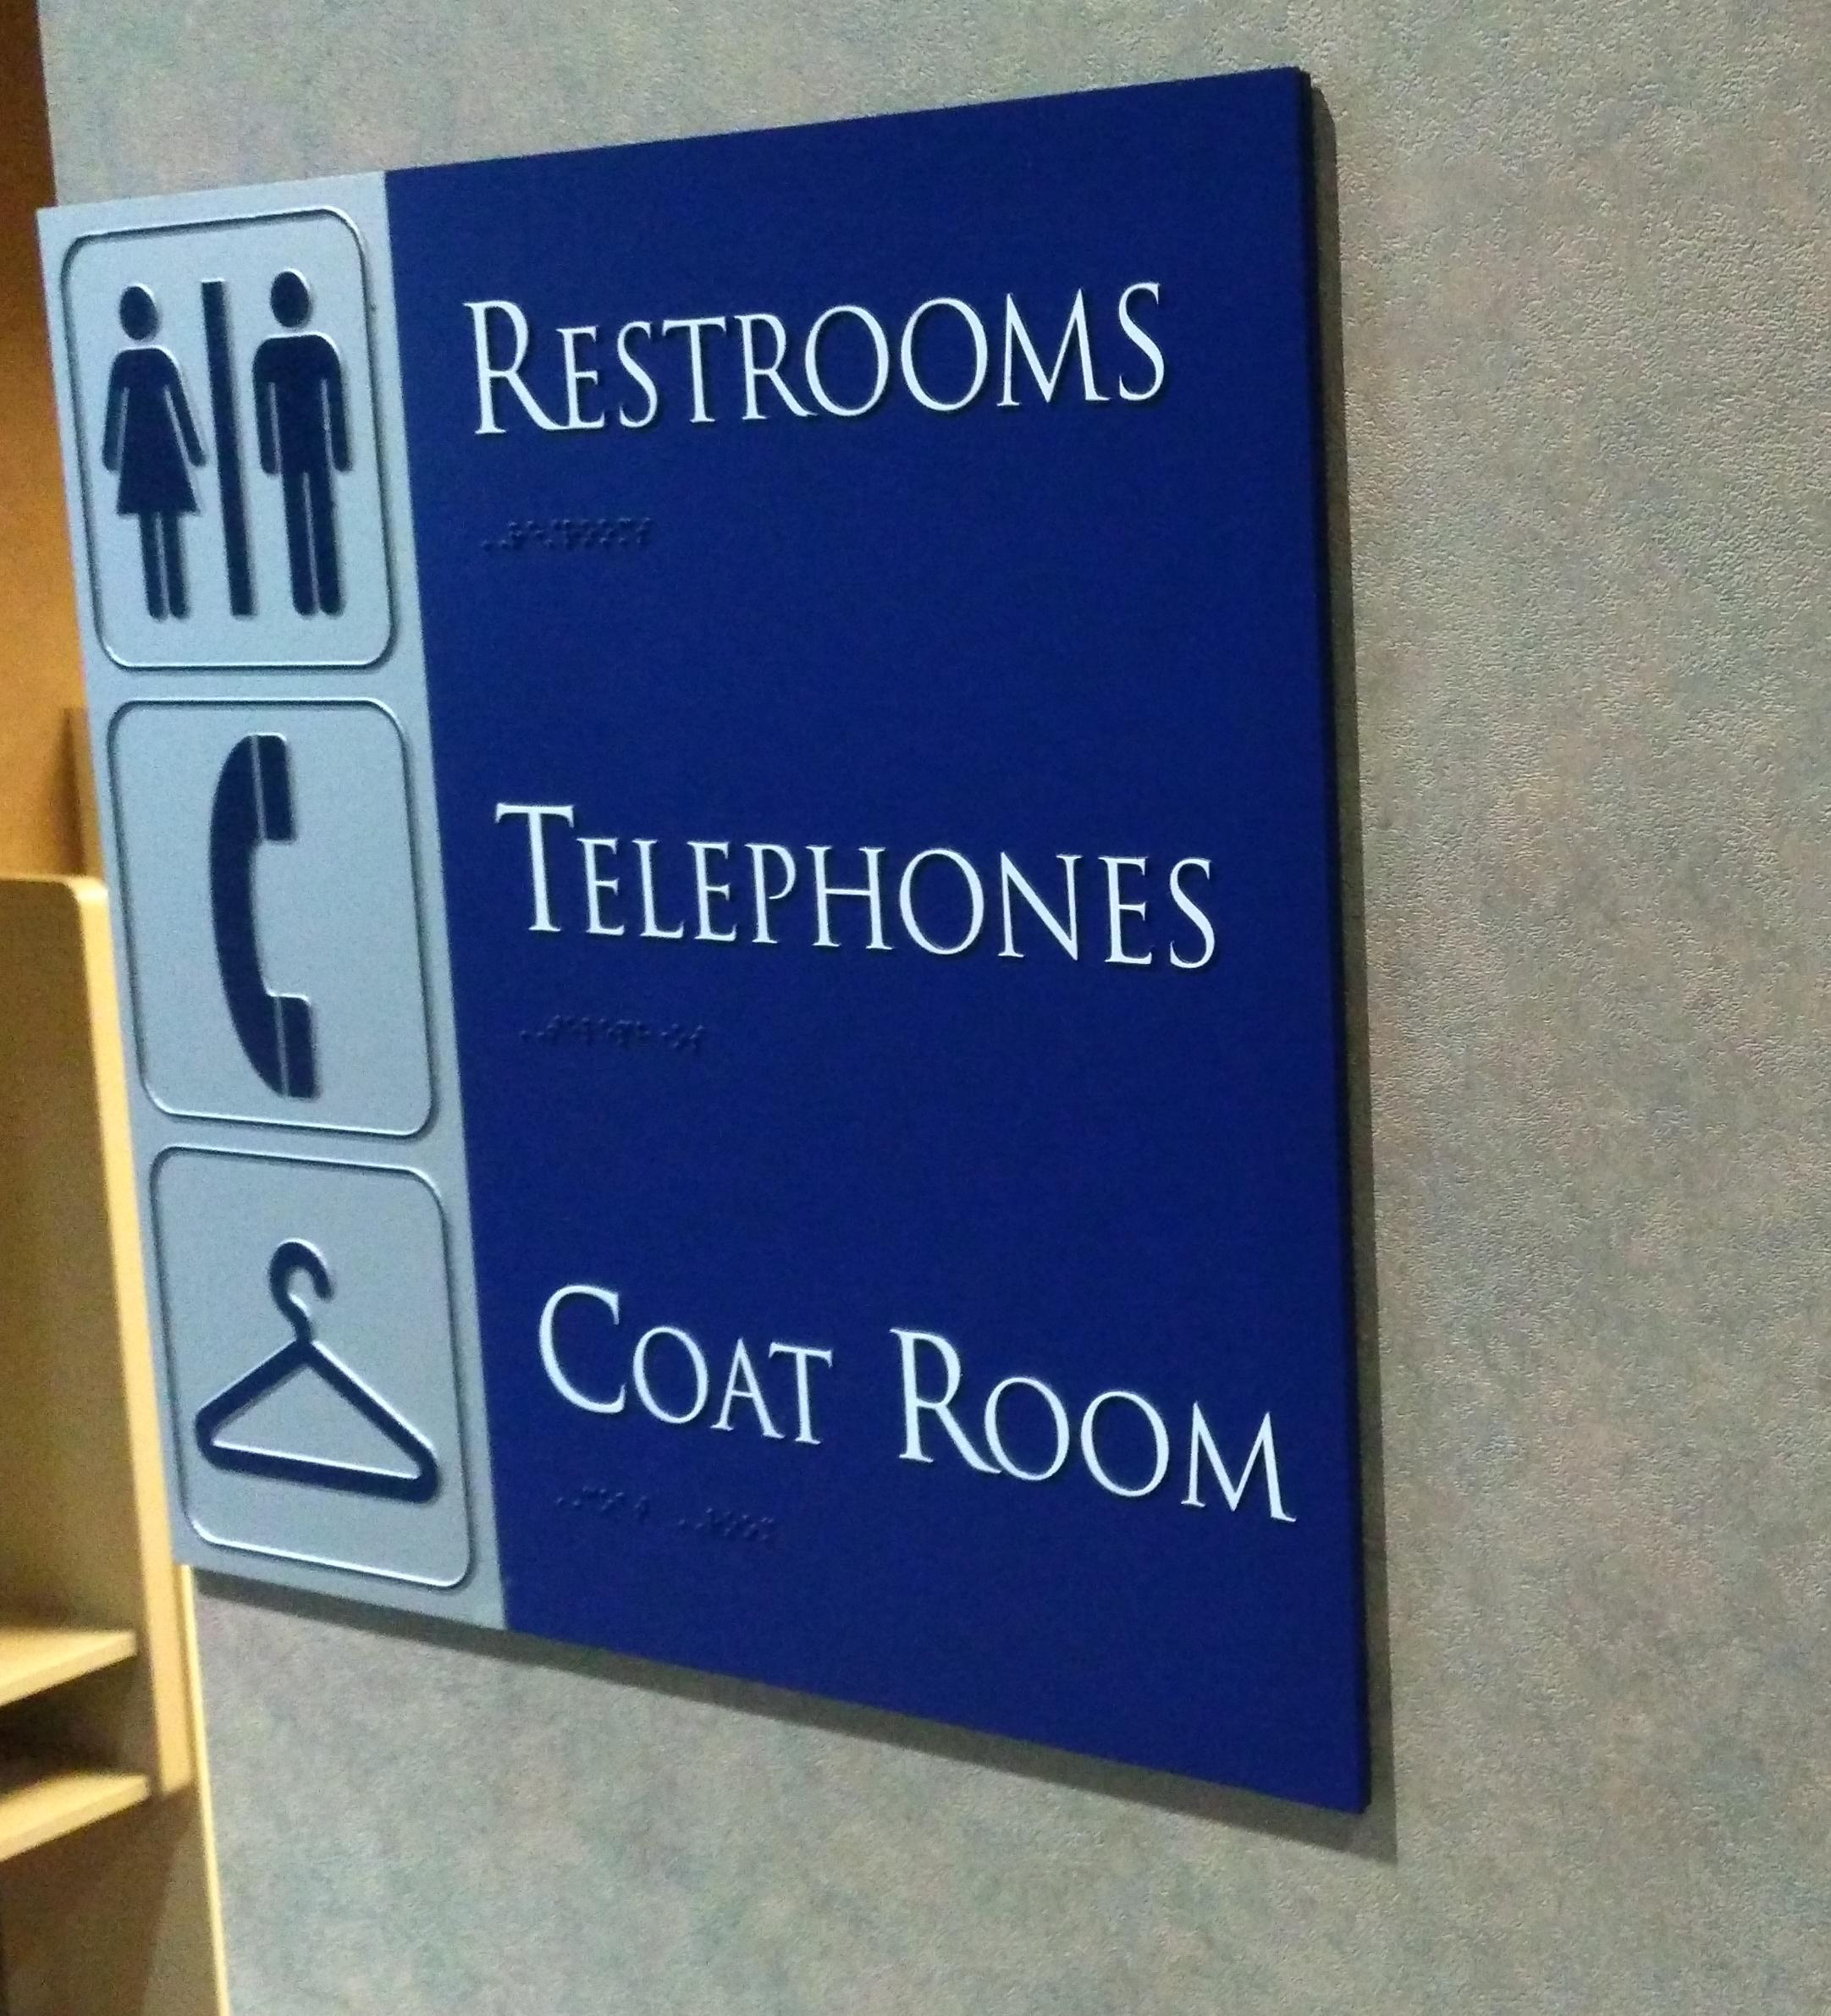sign: (32, 67, 1371, 1805)
